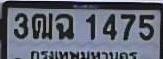1: (85, 13, 94, 39)
3: (13, 12, 27, 38)
4: (102, 13, 116, 39)
5: (138, 14, 153, 40)
7: (120, 13, 135, 40)
A09: (55, 13, 73, 39)
A18: (31, 11, 52, 38)
